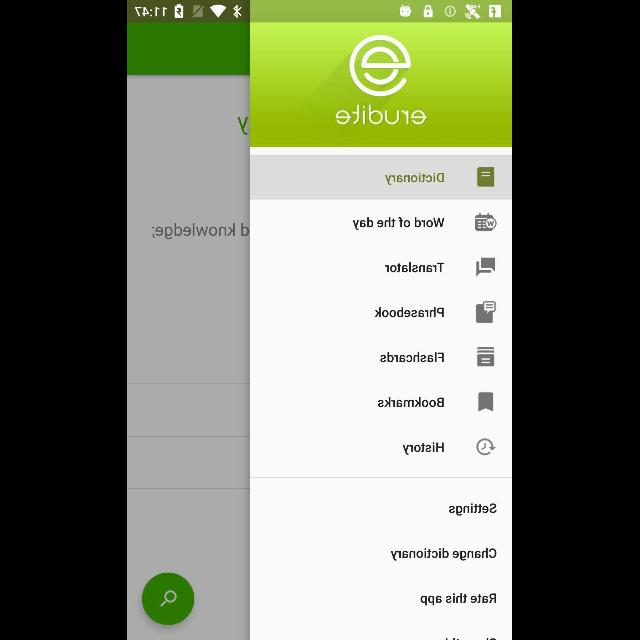button: (142, 573, 195, 625)
icon: (477, 301, 497, 323), (477, 438, 497, 456), (477, 347, 495, 367), (476, 258, 496, 276), (478, 392, 494, 412), (478, 167, 494, 187)
image: (350, 35, 412, 97), (336, 104, 428, 126), (475, 212, 497, 232)
panel: (252, 24, 512, 640)
text: (390, 547, 498, 561), (152, 223, 235, 240), (354, 218, 446, 230), (421, 592, 497, 606), (375, 306, 445, 318), (385, 172, 445, 185), (378, 397, 444, 408), (449, 502, 497, 516), (381, 352, 445, 362), (385, 262, 445, 272), (403, 441, 445, 455)
uppertaskbar: (128, 1, 512, 23)
